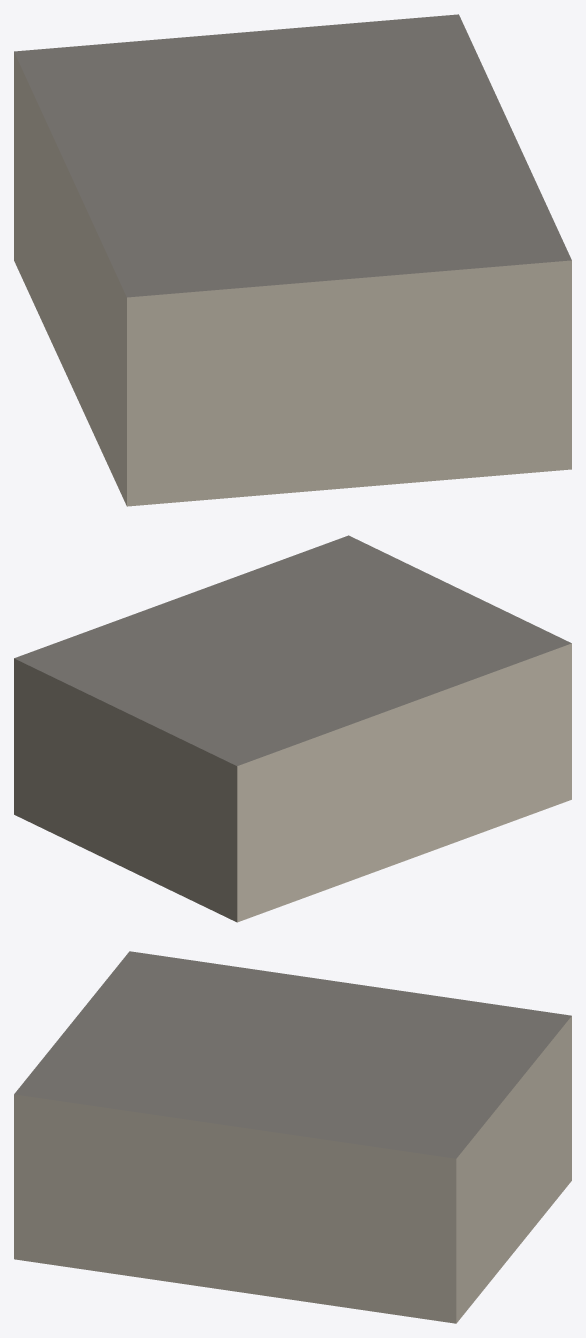
3 views of the same model, one above another, from view 1: azimuth 30°, elevation 25°; view 2: azimuth 150°, elevation 25°; view 3: azimuth 270°, elevation 25° (orthographic). The views are drawn at different scales.
Visible parts, largest first — view 1: HP-w858839008; view 2: HP-w858839008; view 3: HP-w858839008.
Part boxes in pixels (x1,y1,x2,y2): HP-w858839008: (14, 14, 571, 506); HP-w858839008: (14, 535, 571, 922); HP-w858839008: (14, 951, 571, 1323).
Size of the model in its own units: 48.58 by 18 by 55.18.
